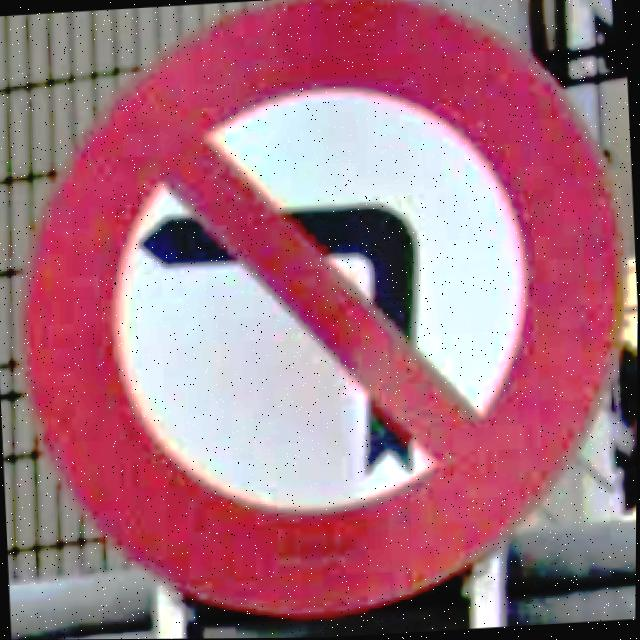noturnleft: (0, 0, 640, 634)
